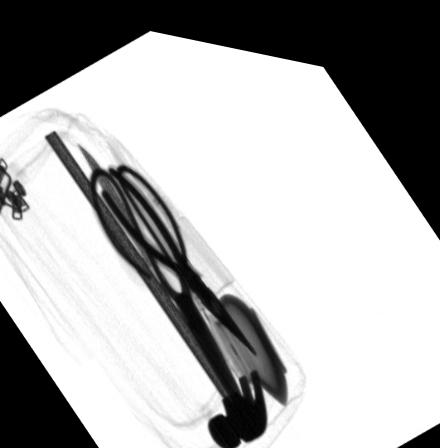Hammer: (42, 127, 269, 443)
Knife: (75, 140, 157, 277)
Pliers: (99, 158, 256, 346)
Scissors: (88, 158, 246, 407)
